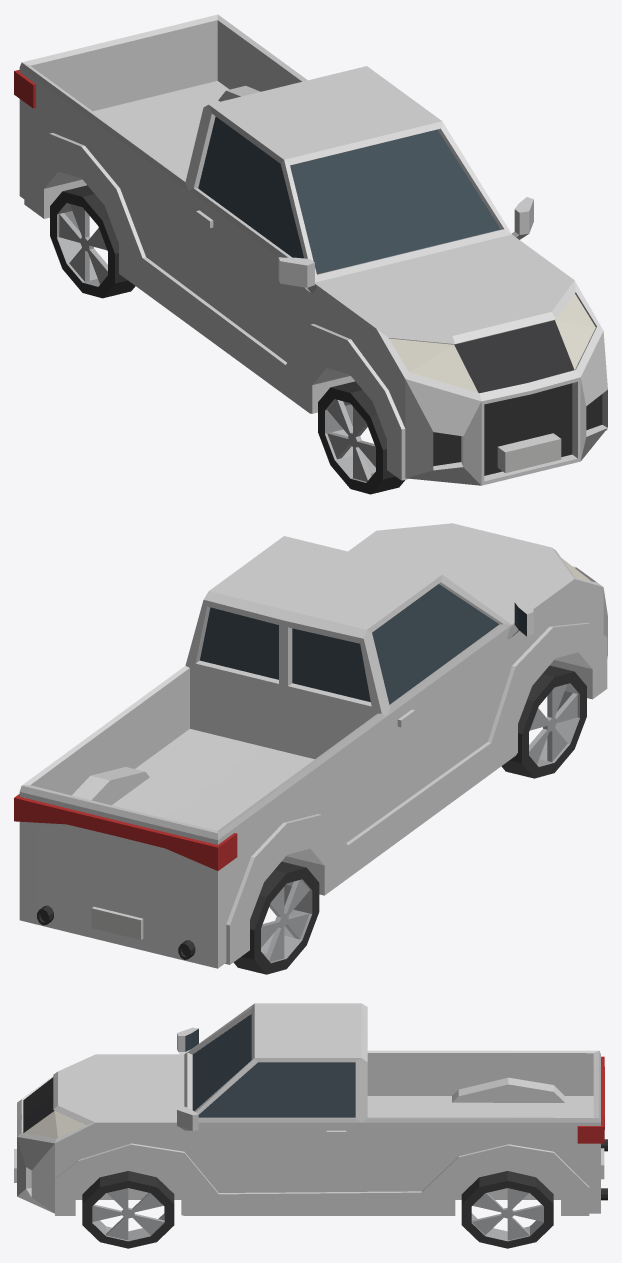
The model's file is pickup.glb.
3 views of the same model, one above another, from view 1: azimuth 30°, elevation 25°; view 2: azimuth 150°, elevation 25°; view 3: azimuth 270°, elevation 25° (orthographic). The views are drawn at different scales.
Visible parts, largest first — view 1: paint, fixed; view 2: paint, fixed; view 3: paint, fixed.
Boxes of the visible parts, x1=… form: paint: x1=19, y1=14, x2=607, y2=485; fixed: x1=14, y1=69, x2=602, y2=494; paint: x1=19, y1=523, x2=607, y2=968; fixed: x1=14, y1=558, x2=591, y2=974; paint: x1=14, y1=1003, x2=604, y2=1215; fixed: x1=23, y1=1014, x2=607, y2=1248.
Bounding box in the file's own units: 1.85 × 1.8 × 5.3.
